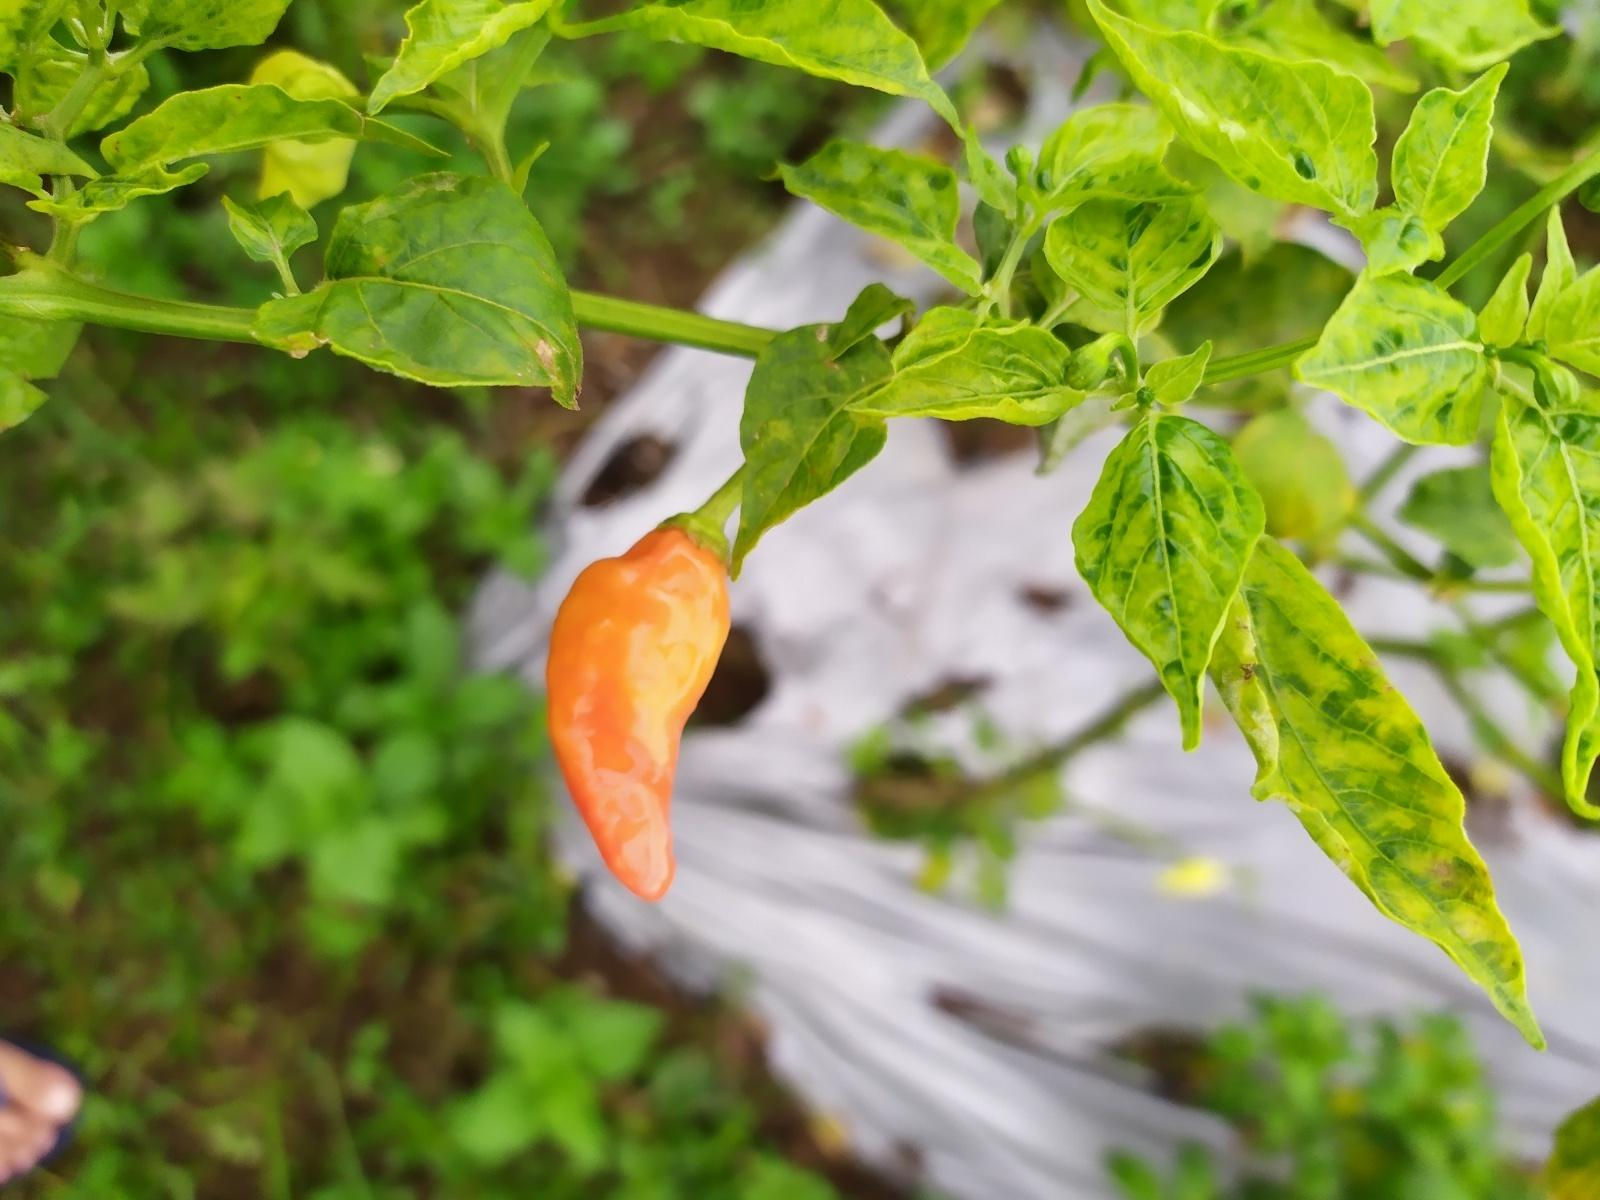cabai_normal: (546, 518, 731, 902)
